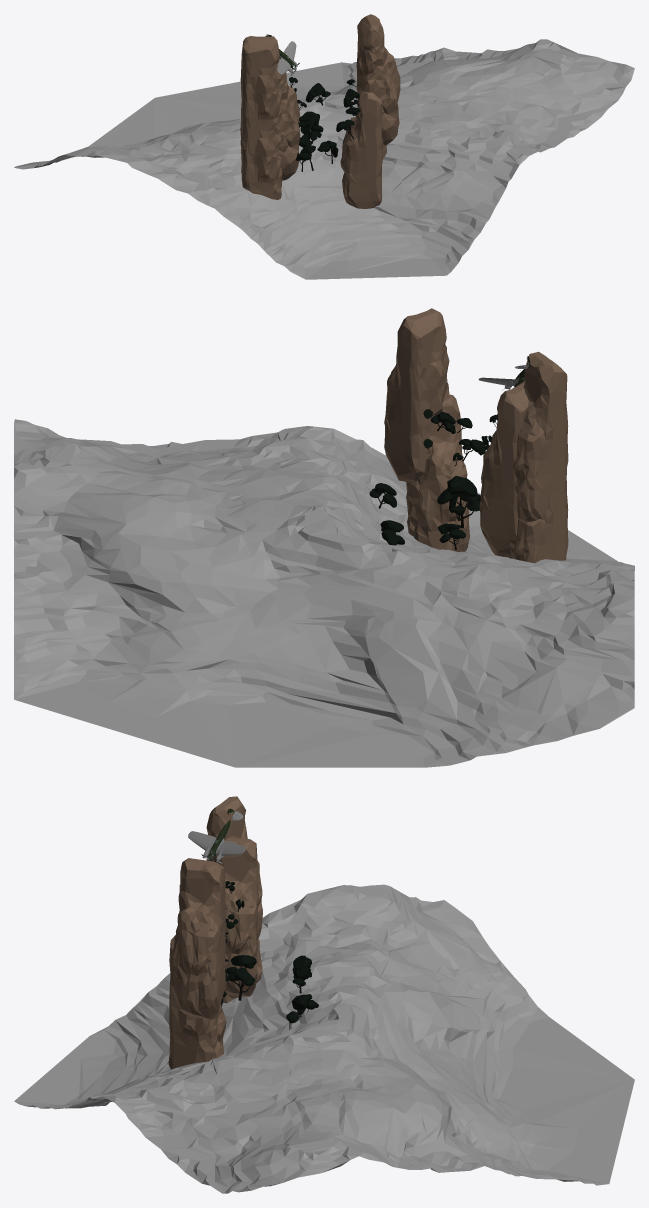
File: Render_Scene_collection.FBX
3 views of the same model, one above another, from view 1: azimuth 30°, elevation 25°; view 2: azimuth 150°, elevation 25°; view 3: azimuth 270°, elevation 25° (orthographic). The views are drawn at different scales.
Parts seen in each view (by area): view 1: Group57663, Group57660, Group57656, Group57661, Group57657, Group2700; view 2: Group57663, Group57661, Group57656, Group2700, Group57660, Group57657; view 3: Group57663, Group57661, Group2700, Group57660, Group57656.
Part boxes in pixels (x1=…): Group57663: x1=14, y1=39, x2=634, y2=279; Group57660: x1=340, y1=90, x2=386, y2=208; Group57656: x1=240, y1=36, x2=282, y2=156; Group57661: x1=356, y1=14, x2=400, y2=145; Group57657: x1=240, y1=114, x2=282, y2=199; Group2700: x1=278, y1=58, x2=300, y2=180; Group57663: x1=14, y1=419, x2=634, y2=767; Group57661: x1=384, y1=308, x2=449, y2=482; Group57656: x1=512, y1=351, x2=568, y2=521; Group2700: x1=479, y1=381, x2=528, y2=557; Group57660: x1=406, y1=394, x2=469, y2=551; Group57657: x1=508, y1=469, x2=568, y2=563; Group57663: x1=14, y1=884, x2=634, y2=1193; Group57661: x1=171, y1=858, x2=225, y2=1019; Group2700: x1=213, y1=838, x2=258, y2=996; Group57660: x1=168, y1=935, x2=226, y2=1069; Group57656: x1=206, y1=796, x2=262, y2=939.
Size of the model in its own units: 14383 by 5030 by 11740.
